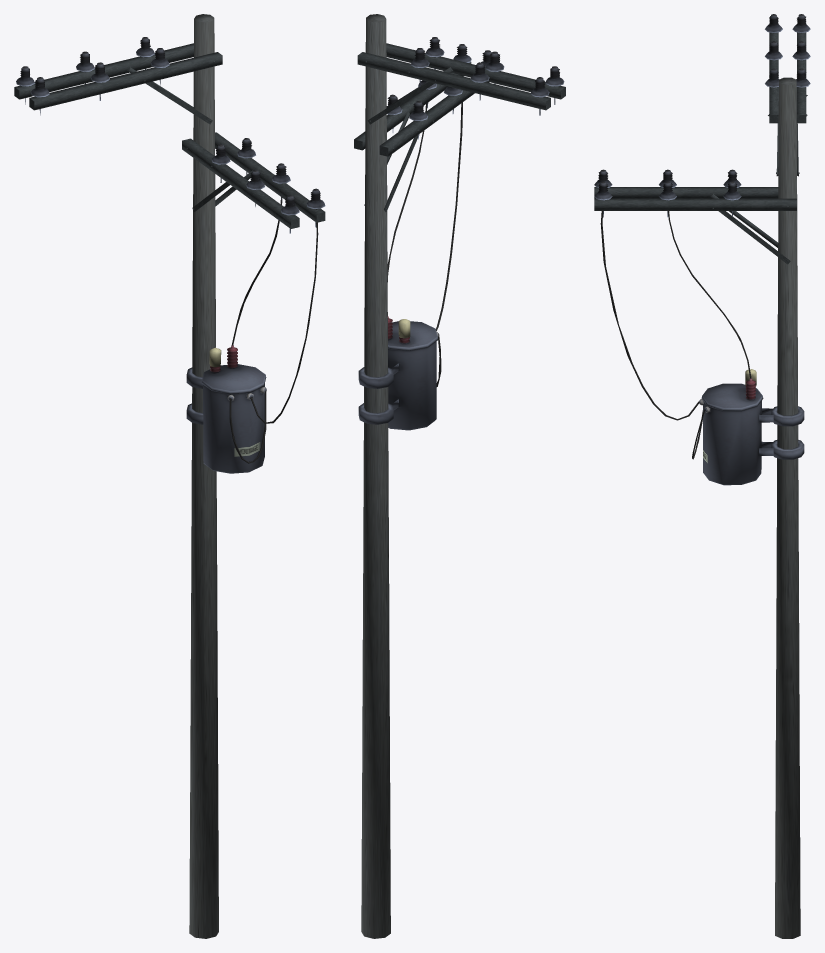
Rendered from pole_concrete_f_lod_1.glb.
3 views of the same model, side by side, from view 1: azimuth 30°, elevation 25°; view 2: azimuth 150°, elevation 25°; view 3: azimuth 270°, elevation 25° (orthographic). The views are drawn at different scales.
Parts seen in each view (by area): view 1: pole_concrete_f_lod_1; view 2: pole_concrete_f_lod_1; view 3: pole_concrete_f_lod_1.
Part boxes in pixels (x1,y1,x2,y2): pole_concrete_f_lod_1: (14, 14, 325, 938); pole_concrete_f_lod_1: (354, 14, 565, 938); pole_concrete_f_lod_1: (594, 14, 810, 938).
Bounding box in the file's own units: 2.42 × 10.2 × 2.35.
2 materials, 2 textured.
